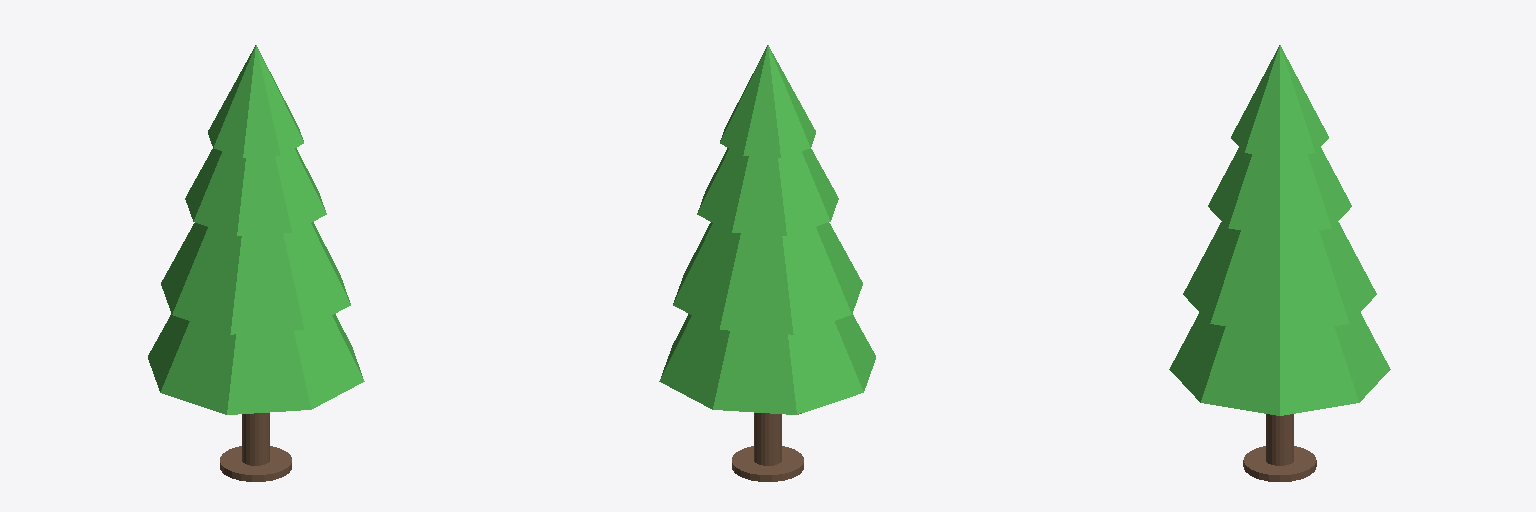
3 renders of one model, left to right at view 1: azimuth 30°, elevation 25°; view 2: azimuth 150°, elevation 25°; view 3: azimuth 270°, elevation 25°, orthographic.
Visible parts, largest first — view 1: Pine1; view 2: Pine1; view 3: Pine1.
Boxes of the visible parts, box(x1,y1,x2,y2) form: Pine1: box(148, 45, 364, 481); Pine1: box(659, 45, 875, 481); Pine1: box(1169, 45, 1390, 481).
Bounding box in the file's own units: 1.69 × 3.55 × 1.69.
Materials: 1 (1 with a texture image).